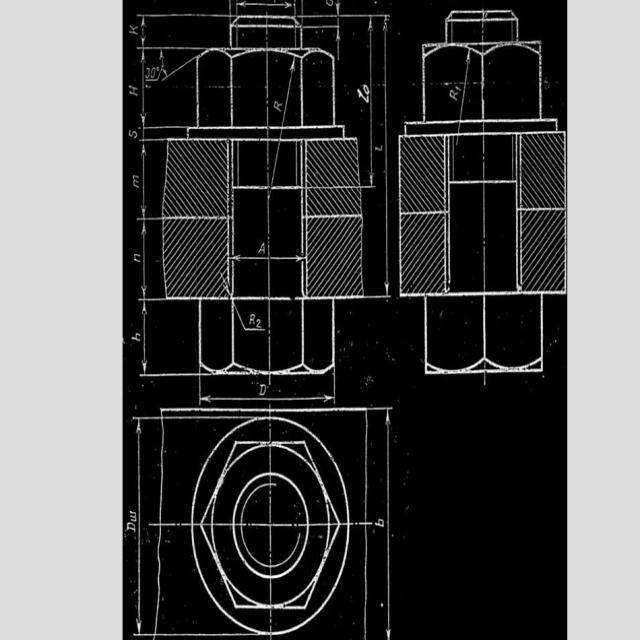marking_line: (365, 408, 394, 639), (131, 415, 156, 640), (136, 46, 187, 130), (376, 14, 390, 302), (198, 378, 336, 405), (361, 14, 375, 189), (137, 15, 205, 51), (135, 218, 162, 300), (138, 298, 166, 377), (137, 139, 162, 219), (281, 57, 298, 124), (235, 1, 297, 16), (458, 50, 471, 120), (228, 252, 306, 263), (334, 0, 341, 61), (158, 51, 168, 77)
numeric: (357, 90, 369, 103), (258, 382, 267, 397), (128, 128, 139, 140), (129, 24, 139, 35), (129, 84, 138, 96), (127, 522, 136, 533), (449, 91, 458, 102), (258, 242, 266, 254), (132, 175, 139, 188), (130, 509, 137, 522), (249, 313, 256, 326), (131, 332, 141, 341), (274, 101, 282, 112), (363, 83, 370, 95), (150, 67, 156, 79), (134, 253, 141, 263), (145, 67, 150, 79), (256, 319, 262, 329), (375, 146, 383, 152), (325, 0, 332, 6), (455, 85, 462, 91)
special_symbol: (156, 66, 160, 72), (138, 125, 141, 131)
